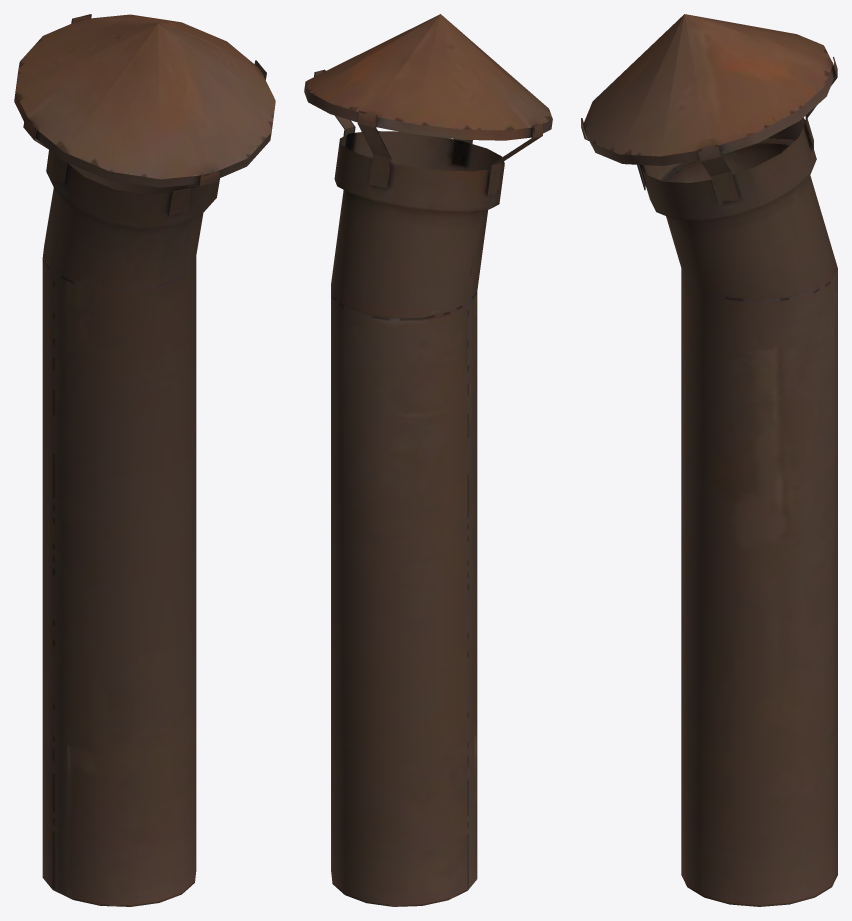
The picture shows the model from 3 angles, left to right: view 1: azimuth 30°, elevation 25°; view 2: azimuth 150°, elevation 25°; view 3: azimuth 270°, elevation 25°; orthographic projection. The views are drawn at different scales.
Parts seen in each view (by area): view 1: body0_model0_lod0_mesh0; view 2: body0_model0_lod0_mesh0; view 3: body0_model0_lod0_mesh0.
Boxes of the visible parts, x1,y1,x2,y2 form: body0_model0_lod0_mesh0: (14, 14, 275, 906); body0_model0_lod0_mesh0: (304, 14, 552, 906); body0_model0_lod0_mesh0: (581, 14, 837, 906).
Size of the model in its own units: 24.25 by 87.98 by 23.78.
1 material, 1 textured.
